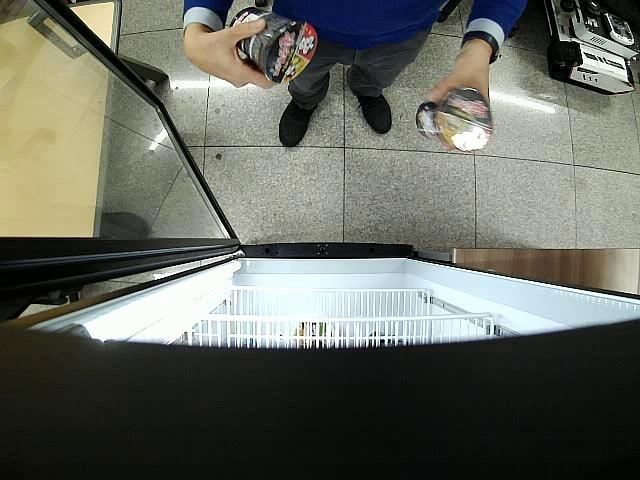08_buldak_S: (230, 7, 317, 80), (416, 90, 494, 152)
